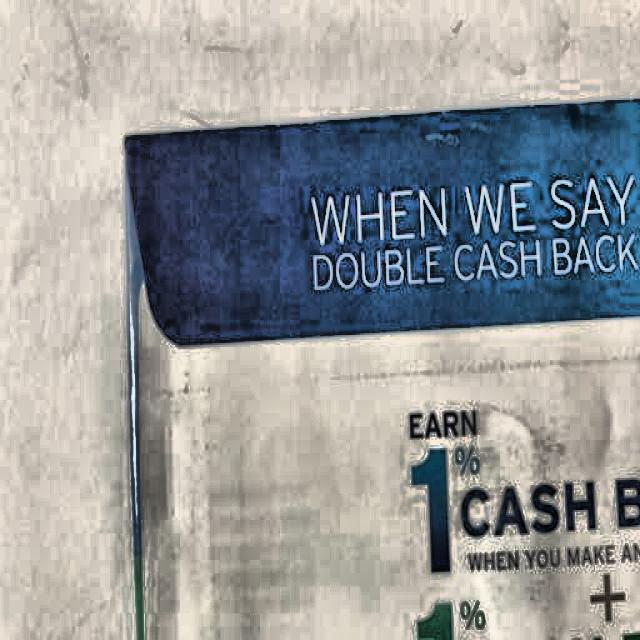paper: (121, 95, 640, 640)
